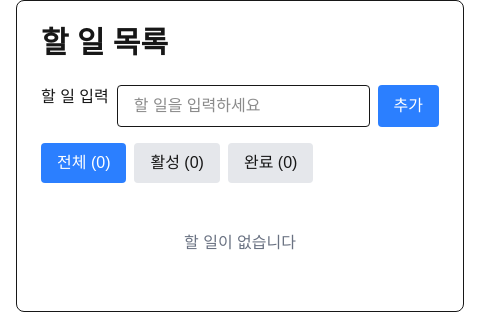
TodoList 컴포넌트 테스트 › 할 일을 삭제 할 수 있다.
In the field labelled "할 일 입력": (243, 106) [117, 85, 370, 127], type "모달 완성"
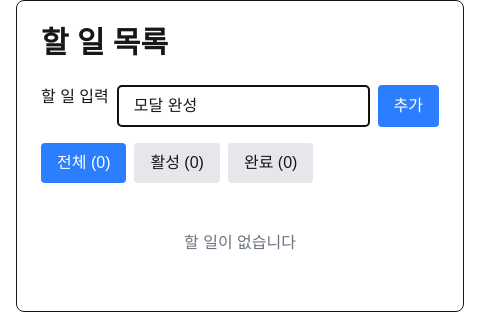
Click the button "추가": (408, 106) [378, 85, 439, 127]
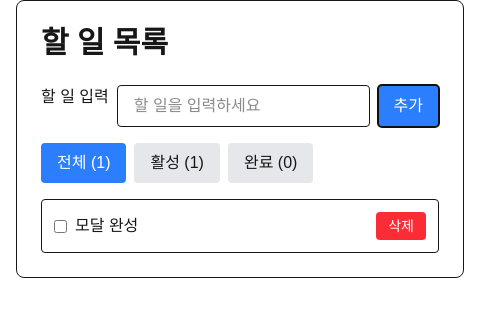
Click the button with aria-label "모달 완성 삭제": (401, 226) [376, 212, 426, 240]
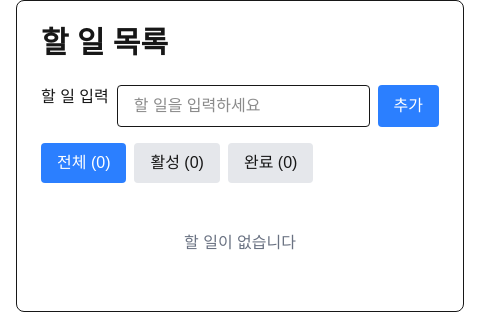
Now the text "모달 완성" is gone
